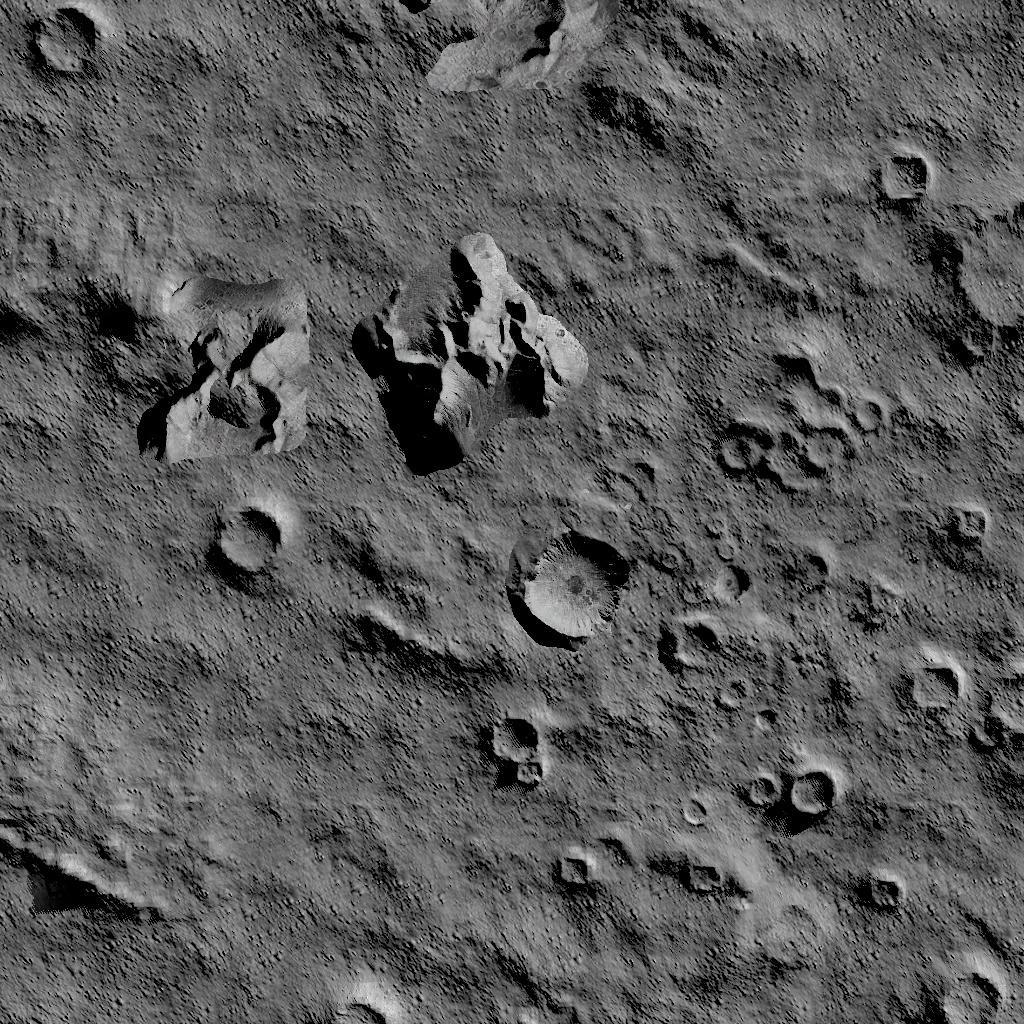Boulders: (351, 229, 588, 468), (133, 258, 309, 454), (387, 0, 610, 96)
Crater: (712, 336, 880, 478), (522, 528, 639, 641), (947, 182, 1024, 331), (928, 948, 1010, 1024), (210, 500, 288, 577), (22, 6, 104, 76), (739, 764, 837, 814), (486, 715, 551, 788), (974, 664, 1024, 748), (874, 142, 936, 200), (900, 659, 958, 713), (662, 614, 724, 664), (323, 984, 397, 1024), (941, 490, 993, 536), (706, 555, 752, 596), (549, 839, 592, 881), (861, 868, 906, 906), (682, 848, 726, 882), (678, 784, 711, 820), (722, 676, 748, 708)
Plan surface: (211, 652, 479, 954), (0, 464, 197, 783), (121, 0, 373, 192)
